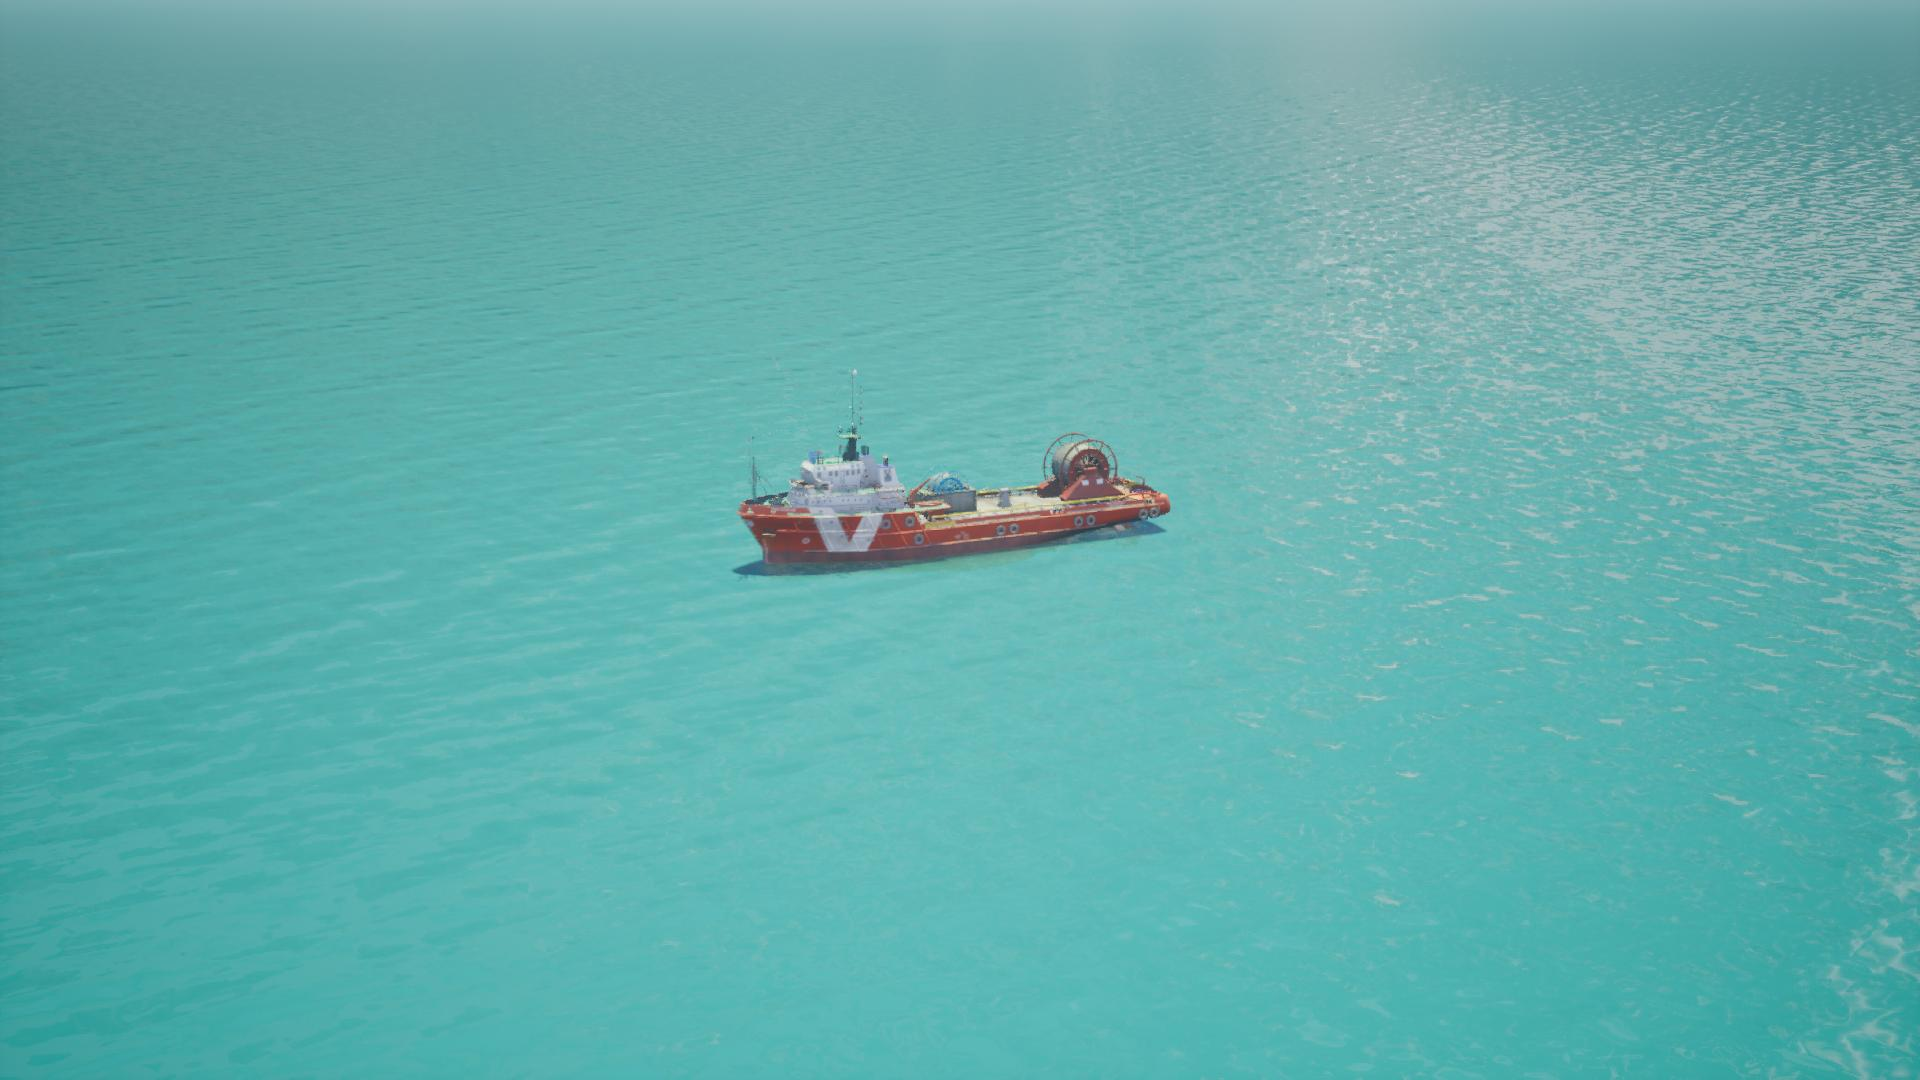Tug Boat: (728, 367, 1171, 580)
